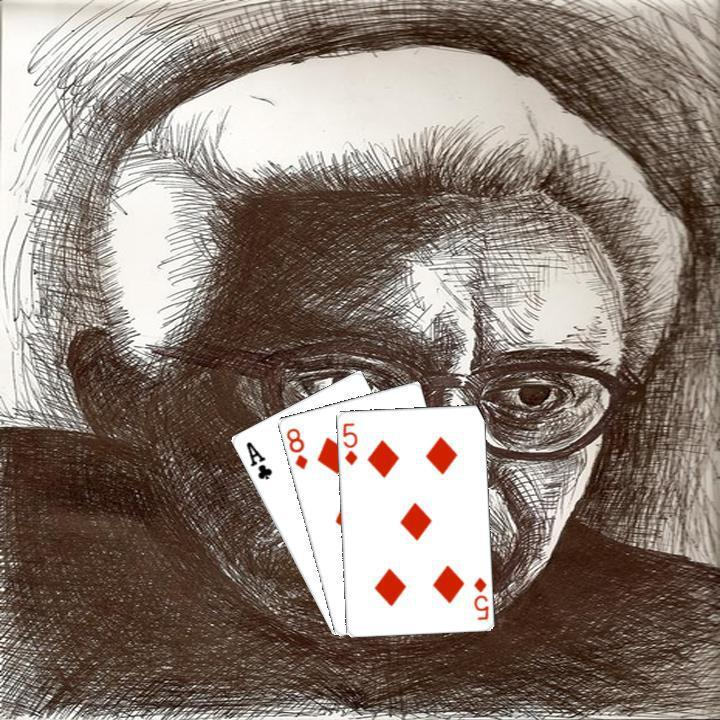5: (338, 418, 359, 467), (469, 572, 490, 621)
8: (281, 423, 309, 471)
A: (241, 437, 274, 481)
